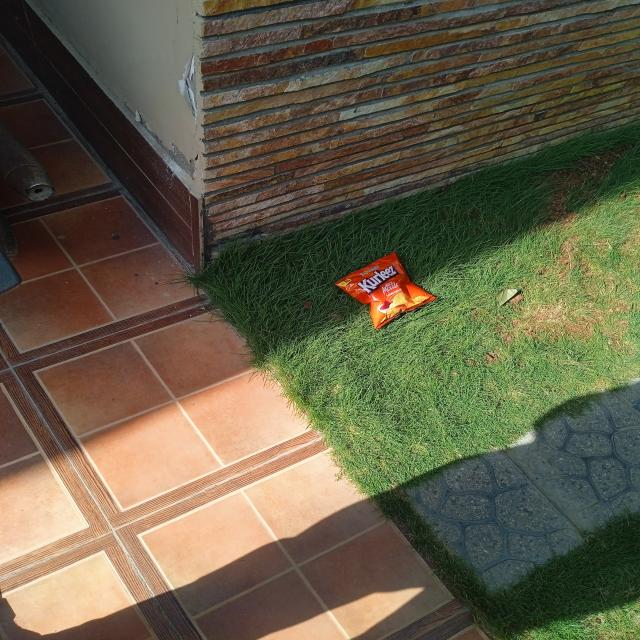Plastic: (341, 251, 436, 328)
